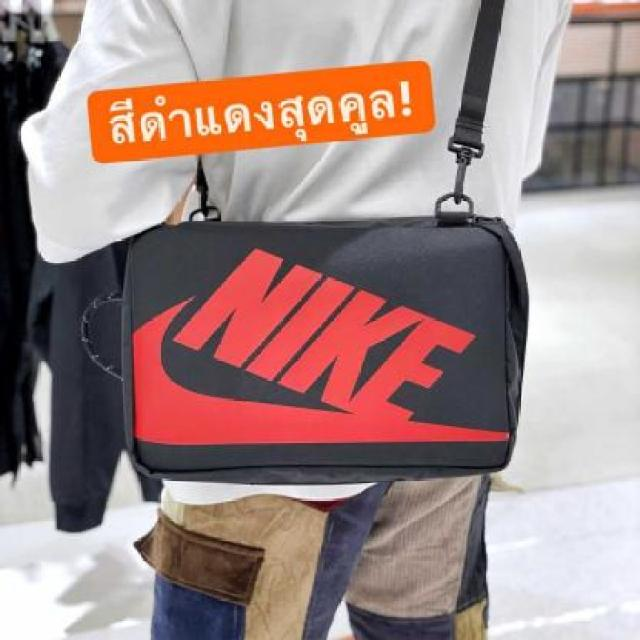Bag: (87, 193, 558, 522)
